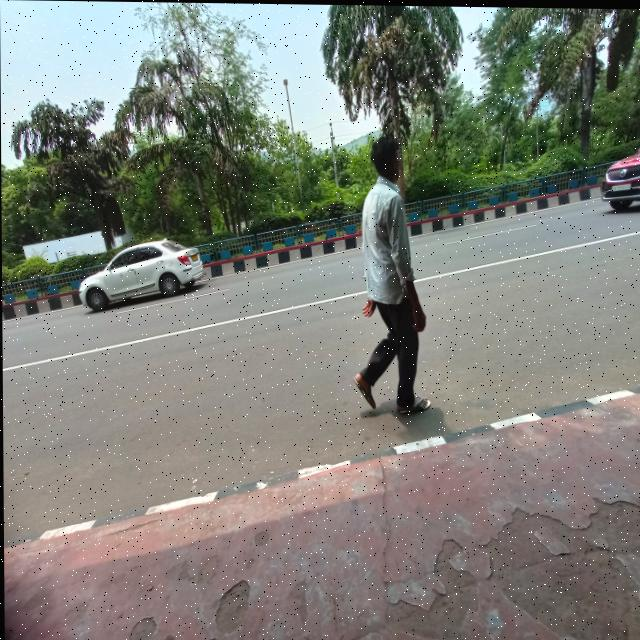car: (74, 242, 205, 312), (599, 125, 640, 216)
